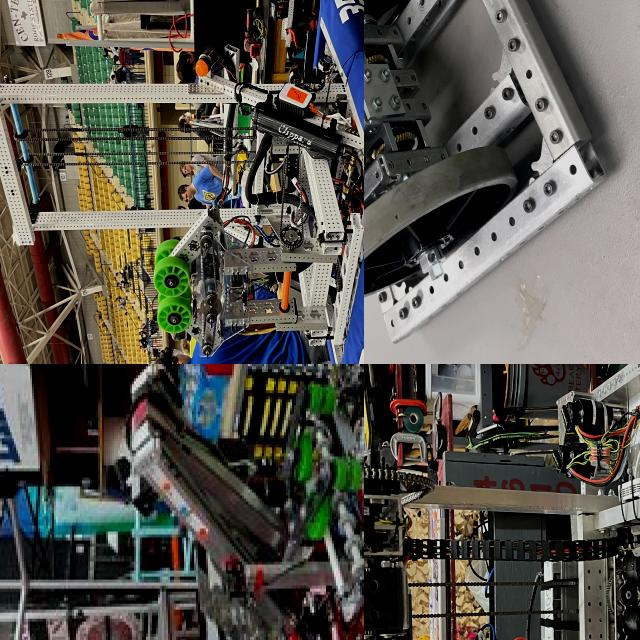FRC-Robots: (0, 0, 364, 364), (364, 0, 608, 364), (364, 364, 640, 640), (105, 364, 364, 640)
